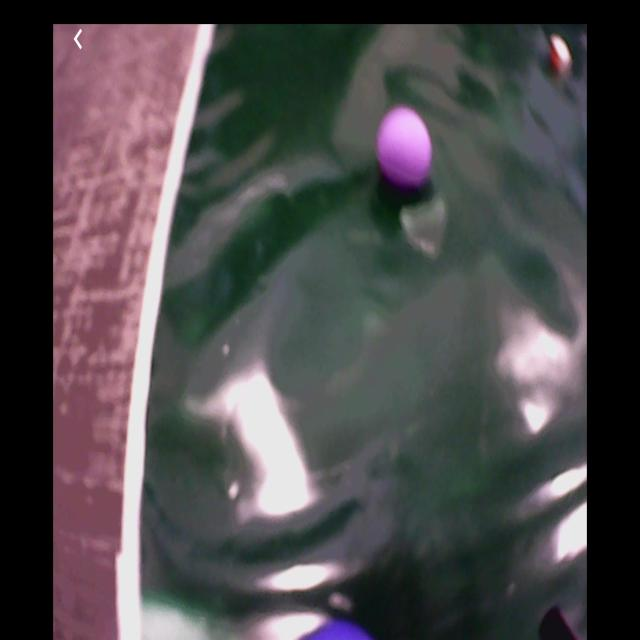ball: (378, 108, 433, 188), (306, 625, 374, 640)
